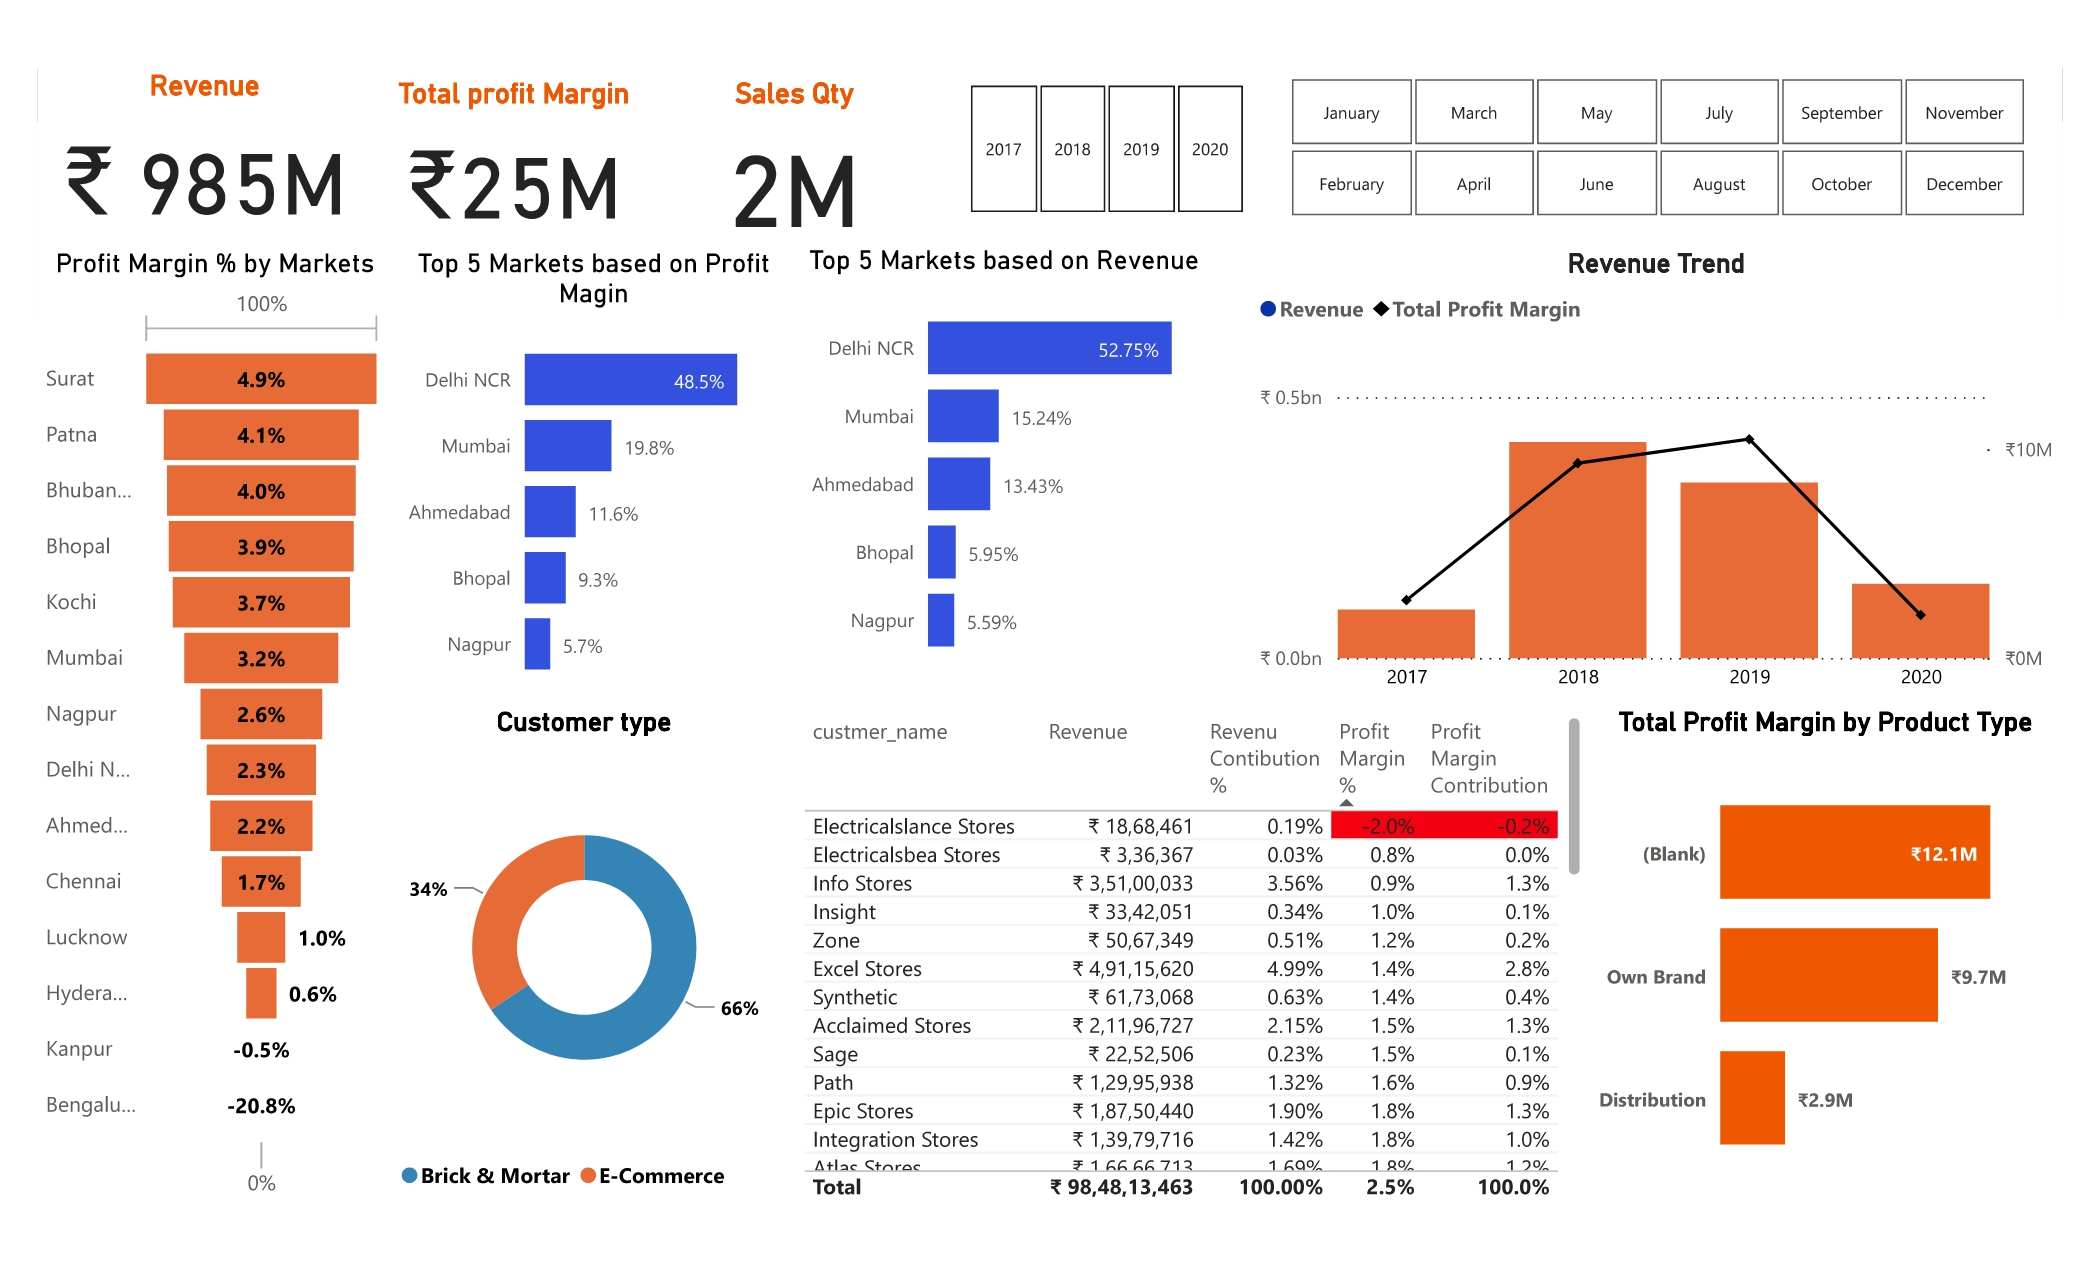

Layout of this report page (visuals, bound fields, positions):
{"tool":"powerbi","page":{"name":"Updated Report","canvas":[1280,720],"ordinal":1},"visuals":[{"type":"card","title":"Revenue","fields":{"Values":["BaseMesure.Revenue"]},"box":[0,0,210.8,112.2],"z":0},{"type":"card","title":"Sales Qty","fields":{"Values":["BaseMesure.Sales Qty"]},"box":[391.3,4.5,174.4,107.7],"z":1000},{"type":"slicer","fields":{"Values":["sales date.year"]},"box":[565.7,5.7,220,90],"z":2000},{"type":"slicer","fields":{"Values":["sales date.date.Variation.Date Hierarchy.Month"]},"box":[767.1,0,512.9,100],"z":3000},{"type":"lineClusteredColumnComboChart","title":"Revenue Trend","fields":{"Y":["BaseMesure.Revenue"],"Y2":["BaseMesure.Total Profit Margin"],"Category":["sales date.cy_date.Variation.Date Hierarchy.Year","sales date.cy_date.Variation.Date Hierarchy.Month"]},"box":[767.1,112.9,512.9,290],"z":4000},{"type":"card","title":"Total profit Margin","fields":{"Values":["BaseMesure.Total Profit Margin"]},"box":[210.8,4.5,180.5,107.7],"z":5000},{"type":"funnel","title":"Profit Margin % by Markets","fields":{"Category":["sales markets.markets_name","sales markets.zone"],"Y":["BaseMesure.Profit Margin %"]},"box":[0,112.9,224.3,607.1],"z":6000},{"type":"barChart","title":"Top 5 Markets based on Profit Magin","fields":{"Category":["sales markets.markets_name","sales markets.zone"],"Y":["BaseMesure.Profit Margin Contribution"]},"box":[224.3,112.9,254.3,290],"z":7000},{"type":"barChart","title":"Top 5 Markets based on Revenue","fields":{"Category":["sales markets.markets_name","sales markets.zone"],"Y":["BaseMesure.Revenu Contibution %"]},"box":[478.6,111.4,264.3,277.1],"z":8000},{"type":"tableEx","fields":{"Values":["sales customers.custmer_name","BaseMesure.Revenue","BaseMesure.Revenu Contibution %","BaseMesure.Profit Margin %","BaseMesure.Profit Margin Contribution"]},"box":[479.2,404.9,502,315.5],"z":9000},{"type":"donutChart","title":"Customer type","fields":{"Category":["sales customers.customer_type"],"Y":["BaseMesure.Profit Margin Contribution"]},"box":[224.5,403.4,242.7,315.5],"z":10000},{"type":"clusteredBarChart","title":"Total Profit Margin by Product Type","fields":{"Category":["sales products.product_type"],"Y":["BaseMesure.Total Profit Margin"]},"box":[981.2,403.4,298.8,317],"z":11000}]}

Visuals, with their boxes on the page's 1280x720 design canvas (x1, y1, x2, y2). These are canvas units, not pixel positions in the 2100x1275 screenshot, which may show the page scaled, cropped or inside an application window:
"Revenue" card: left=0, top=0, right=211, bottom=112
"Sales Qty" card: left=391, top=4, right=566, bottom=112
slicer - sales date.year: left=566, top=6, right=786, bottom=96
slicer - sales date.date.Variation.Date Hierarchy.Month: left=767, top=0, right=1280, bottom=100
"Revenue Trend" lineClusteredColumnComboChart: left=767, top=113, right=1280, bottom=403
"Total profit Margin" card: left=211, top=4, right=391, bottom=112
"Profit Margin % by Markets" funnel: left=0, top=113, right=224, bottom=720
"Top 5 Markets based on Profit Magin" barChart: left=224, top=113, right=479, bottom=403
"Top 5 Markets based on Revenue" barChart: left=479, top=111, right=743, bottom=388
tableEx - sales customers.custmer_name x BaseMesure.Revenue: left=479, top=405, right=981, bottom=720
"Customer type" donutChart: left=224, top=403, right=467, bottom=719
"Total Profit Margin by Product Type" clusteredBarChart: left=981, top=403, right=1280, bottom=720
